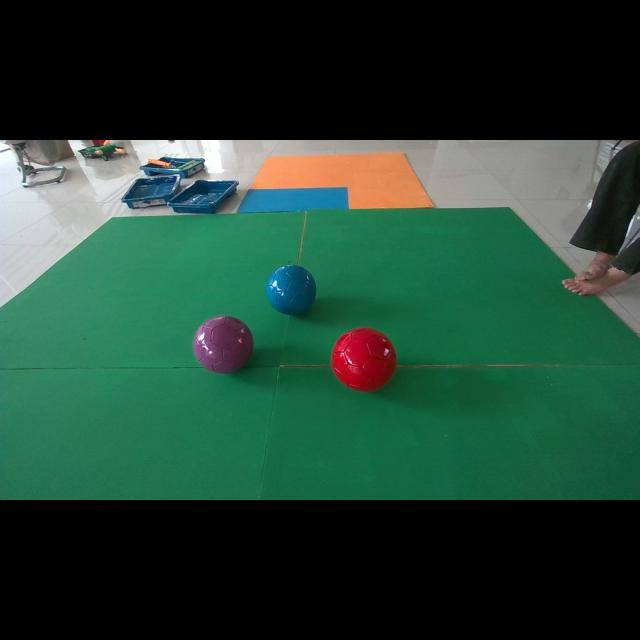B: (265, 265, 316, 315)
P: (192, 316, 254, 374)
R: (331, 328, 396, 391)
